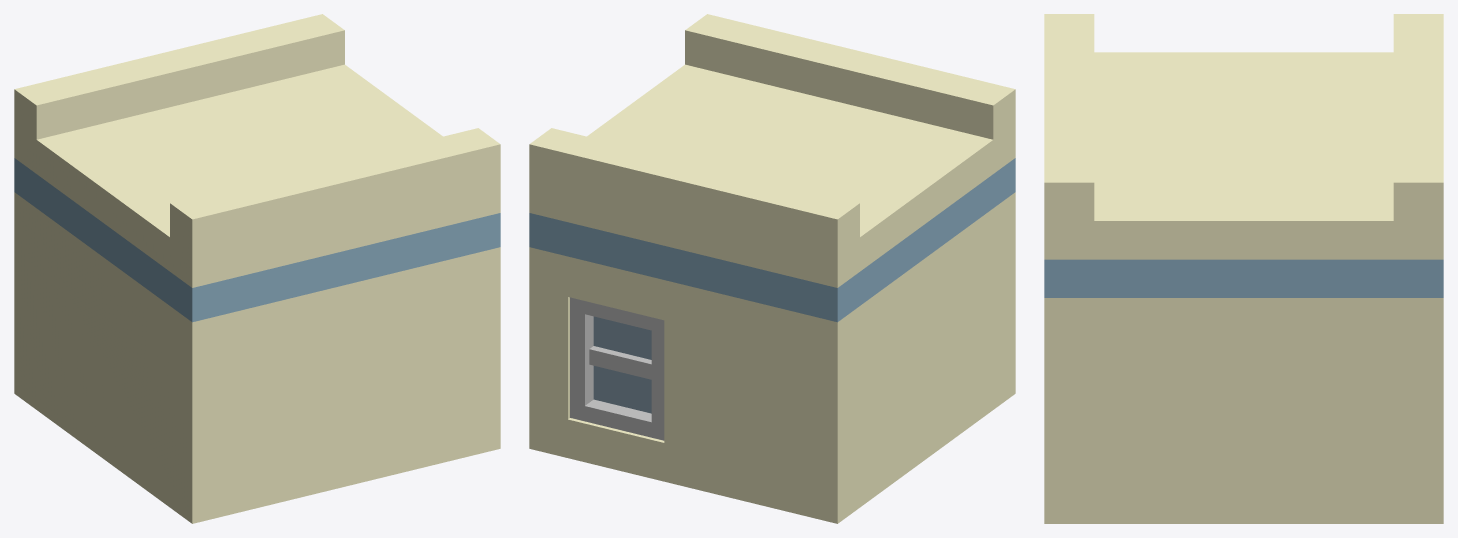
File: SM_Building_Small_01.fbx
3 views of the same model, side by side, from view 1: azimuth 30°, elevation 25°; view 2: azimuth 150°, elevation 25°; view 3: azimuth 270°, elevation 25° (orthographic). The views are drawn at different scales.
Parts seen in each view (by area): view 1: SM_Building_Small_01; view 2: SM_Building_Small_01; view 3: SM_Building_Small_01.
Boxes of the visible parts, x1=… form: SM_Building_Small_01: x1=14, y1=14, x2=500, y2=523; SM_Building_Small_01: x1=529, y1=14, x2=1015, y2=523; SM_Building_Small_01: x1=1044, y1=14, x2=1443, y2=523.
Size of the model in its own units: 400 by 378 by 400.
